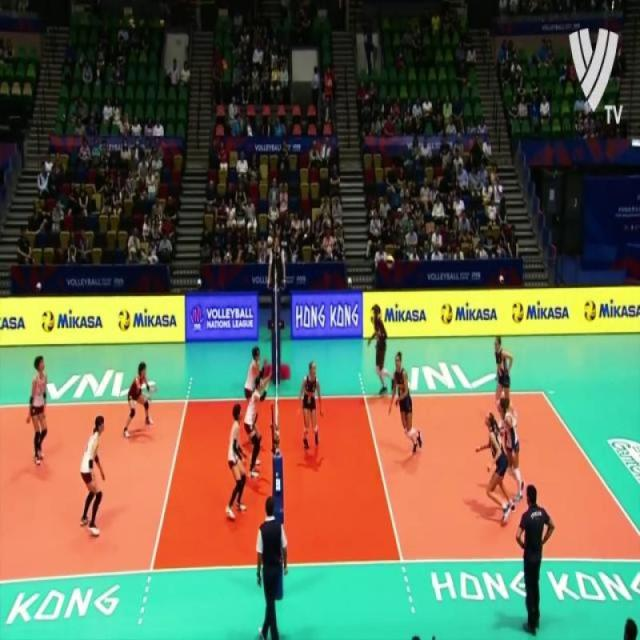volleyball: (582, 300, 597, 324), (41, 310, 54, 333), (441, 301, 453, 325), (118, 309, 130, 332), (512, 301, 524, 324), (384, 252, 396, 272)
